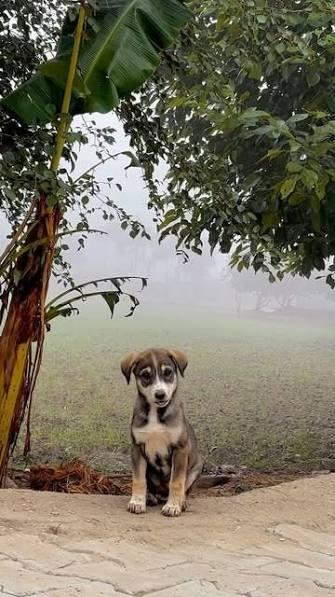puppy-dog: (116, 342, 205, 522)
